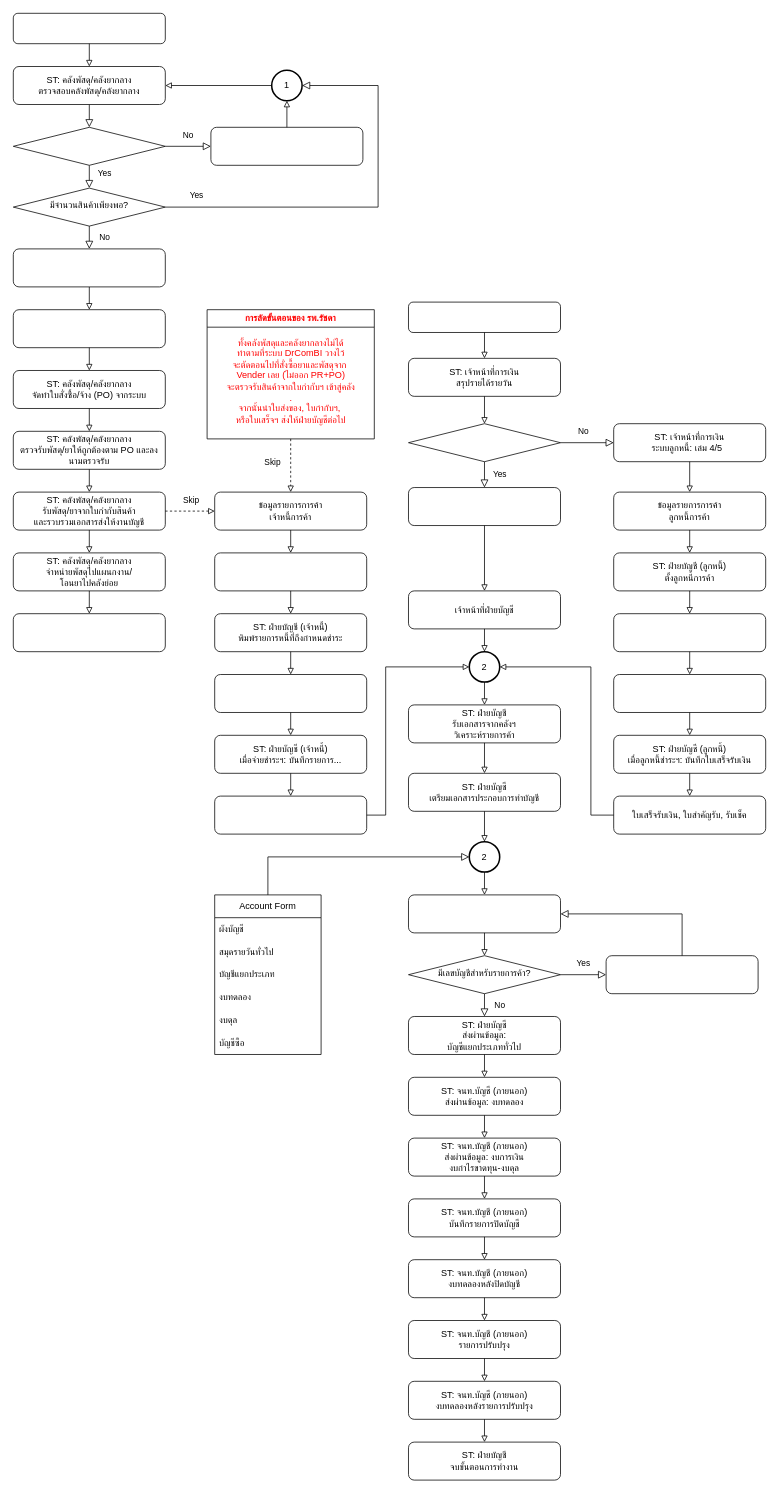
The diagram is 779 pixels wide and 1493 high, and some of its shapes have lost their labels. Here are the shapes that lost their labels. From the top down, the centre of each, then its label:
At (89,28): "เจ้าหน้าที่คลังพัสดุ/คลังยากลาง".
At (89,146): "มีจำนวนสินค้าถูกต้อง?".
At (286,146): "ST: คลังพัสดุ/คลังยากลาง ปรับปรุงจำนวนสินค้าในระบบ คลังพัสดุ/คลังยากลาง".
At (89,267): "ST: คลังพัสดุ/คลังยากลาง ติดต่อตกลงราคากับผู้ขาย, ขอใบเสนอราคาจากผู้ขาย".
At (89,328): "ST: คลังพัสดุ/คลังยากลาง จัดทำใบขอซื้อ (PR) เพื่ออนุมัติซื้อ/จ้าง".
At (484,316): "เจ้าหน้าที่การเงิน".
At (484,442): "รายได้เงินสด?".
At (484,506): "ST: เจ้าหน้าที่การเงิน ระบบเงินสด/Cash: เล่ม A/2/B/8/9".
At (290,571): "ST: ฝ่ายบัญชี (เจ้าหนี้) ตั้งเจ้าหนี้การค้า".
At (89,632): "ST: คลังพัสดุ/คลังยากลาง จบขั้นตอนการทำงาน".
At (689,632): "ST: ฝ่ายบัญชี (ลูกหนี้) พิมพ์รายการหนี้ที่ถึงกำหนดชำระ".
At (290,693): "ST: ฝ่ายบัญชี (เจ้าหนี้) ขออนุมัติสั่งจ่ายเช็คและทำเช็คจ่าบ".
At (689,693): "ST: ฝ่ายบัญชี (ลูกหนี้) จัดทำใบวางบิล".
At (290,814): "ใบสำคัญจ่าย, ใบหักภาษี ณ ที่จ่าย, จ่ายเช็ค".
At (484,913): "ST: ฝ่ายบัญชี บันทึกรายการในบัญชี: สมุดรายวันทั่วไป".
At (681,974): "ST: ฝ่ายบัญชี สร้างเลขบัญชีใหม่".
